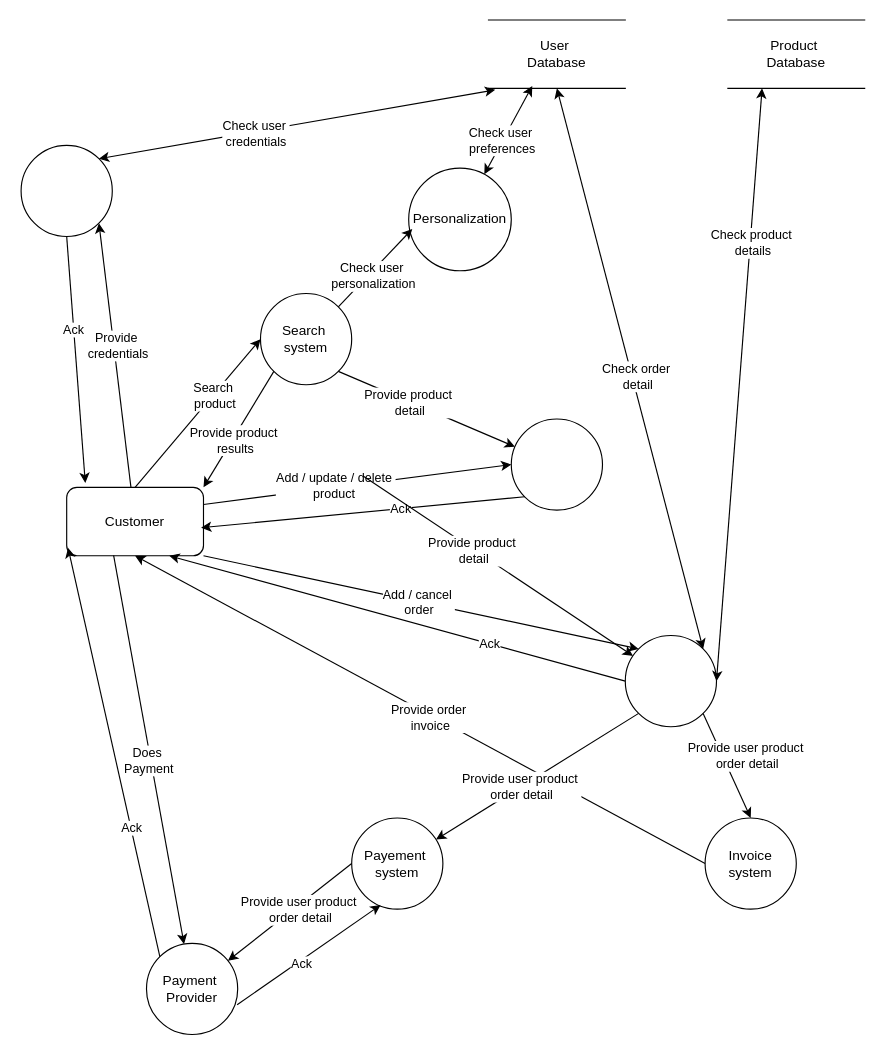
This 885x1055 diagram has some shape labels left out. Here are the shapes that lost their labels. From the top down, the centre of each, then its label:
At (66,190): "Authentications system".
At (556,464): "Cart system".
At (670,680): "Order system".
